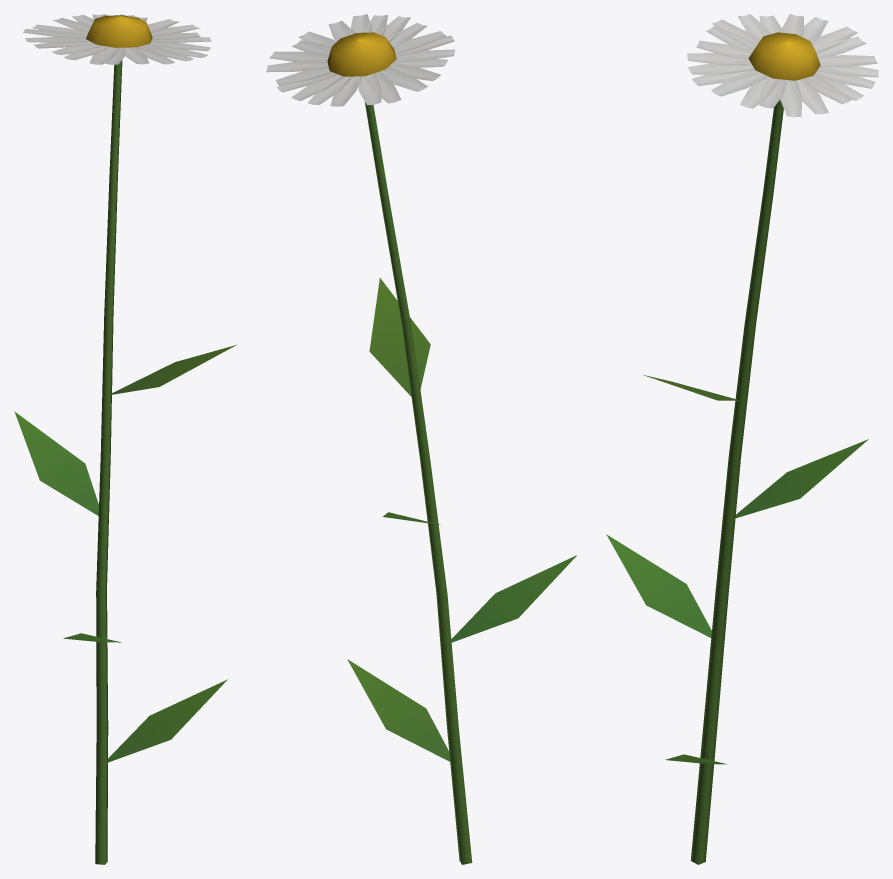
Rendered from flower-daisy-a.lod0.glb.
3 views of the same model, side by side, from view 1: azimuth 30°, elevation 25°; view 2: azimuth 150°, elevation 25°; view 3: azimuth 270°, elevation 25° (orthographic). The views are drawn at different scales.
Visible parts, largest first — view 1: flower-daisy-a.lod0; view 2: flower-daisy-a.lod0; view 3: flower-daisy-a.lod0.
Part boxes in pixels (x1=…): flower-daisy-a.lod0: x1=14, y1=14, x2=236, y2=864; flower-daisy-a.lod0: x1=266, y1=14, x2=576, y2=864; flower-daisy-a.lod0: x1=606, y1=14, x2=878, y2=864.
Bounding box in the file's own units: 0.0933 × 0.3493 × 0.1013.
